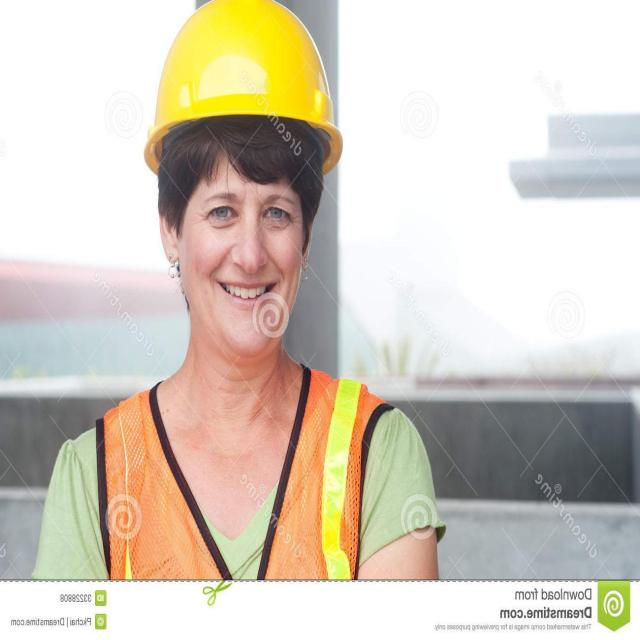Reflective-Jacket: (92, 363, 388, 579)
Safety-Helmet: (141, 1, 349, 176)
